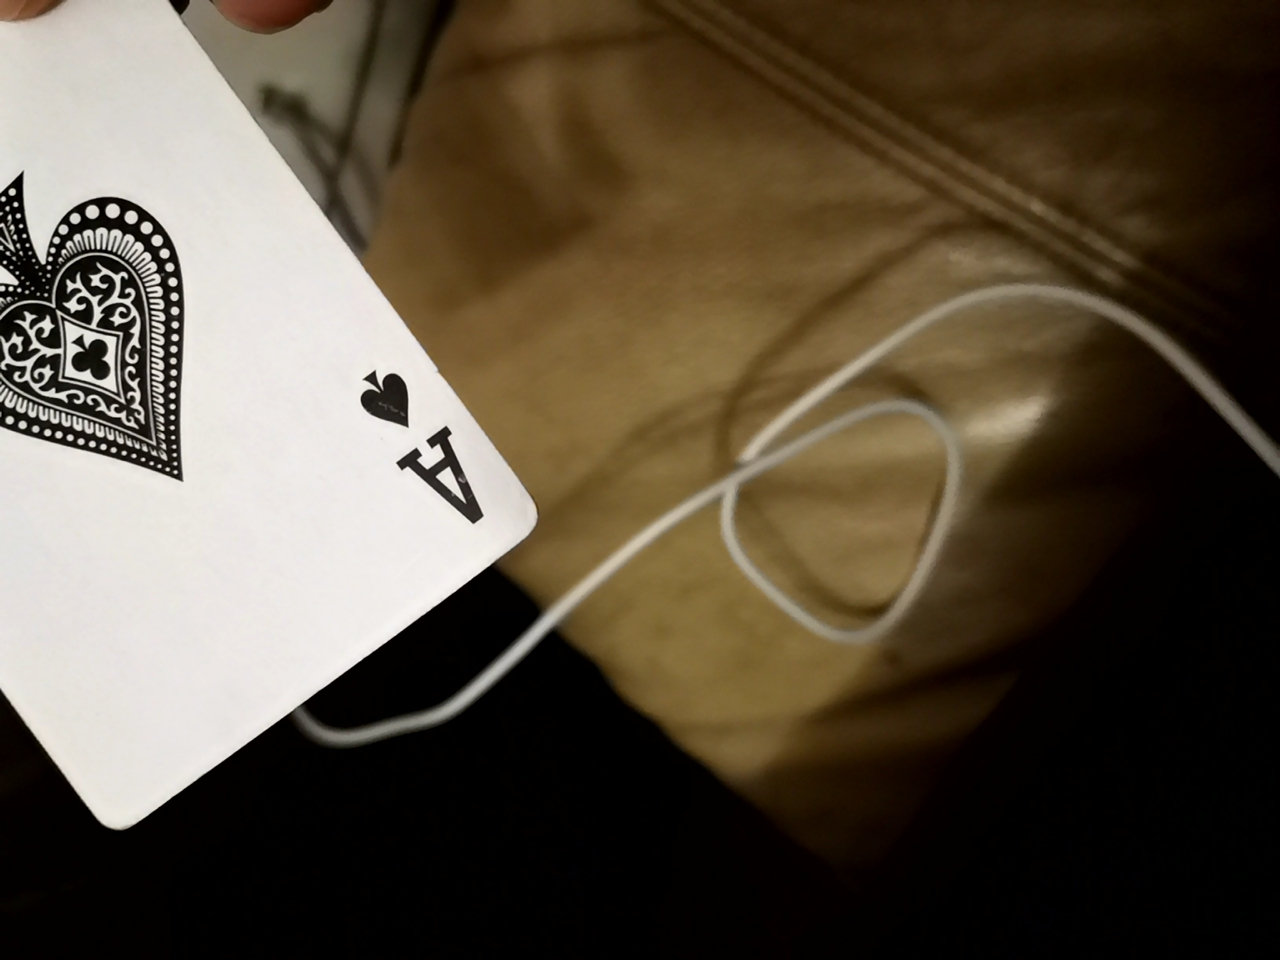ht a: (7, 7, 547, 876)
